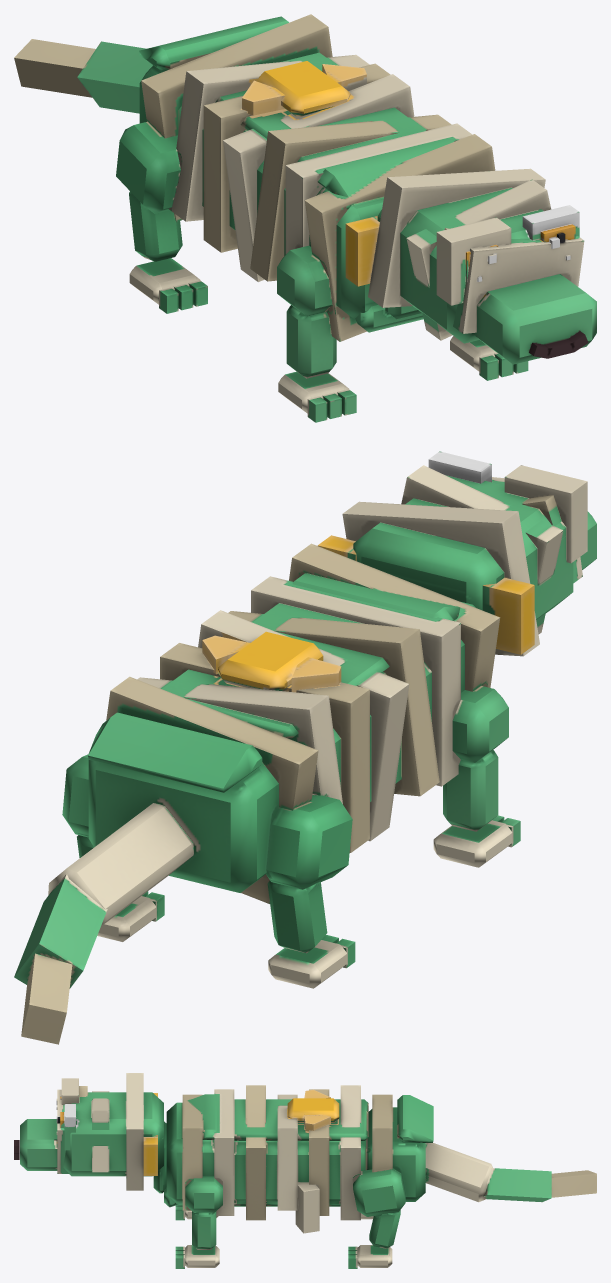
Rendered from LezardMomie_Rig.fbx.
3 views of the same model, one above another, from view 1: azimuth 30°, elevation 25°; view 2: azimuth 150°, elevation 25°; view 3: azimuth 270°, elevation 25° (orthographic). The views are drawn at different scales.
Visible parts, largest first — view 1: Body, Head, LegBR, LegFR, Tail, LegFL; view 2: Body, Head, Tail, LegBR, LegFR, LegBL; view 3: Body, Head, Tail, LegBL, LegFL, Strip.
Part boxes in pixels (box(x1,y1,x2,y2)): Body: box(139, 14, 495, 341); Head: box(368, 168, 596, 364); LegBR: box(116, 121, 207, 313); LegFR: box(277, 245, 356, 422); Tail: box(14, 39, 152, 113); LegFL: box(450, 336, 528, 380); Body: box(88, 535, 534, 903); Head: box(342, 451, 596, 656); Tail: box(14, 803, 193, 1044); LegBR: box(266, 794, 355, 988); LegFR: box(433, 685, 520, 867); LegBL: box(62, 754, 164, 941); Body: box(143, 1085, 433, 1220); Head: box(14, 1073, 163, 1190); Tail: box(425, 1143, 596, 1202); LegBL: box(348, 1168, 405, 1268); LegFL: box(175, 1176, 222, 1268); Strip: box(295, 1182, 319, 1233).
Size of the model in its own units: 5.67 by 6 by 21.43.
1 material, 1 textured.
